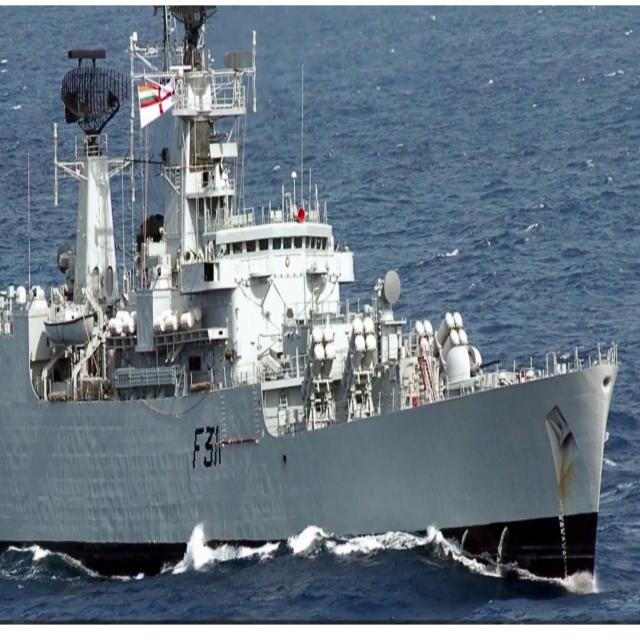OCR: (190, 416, 222, 475)
